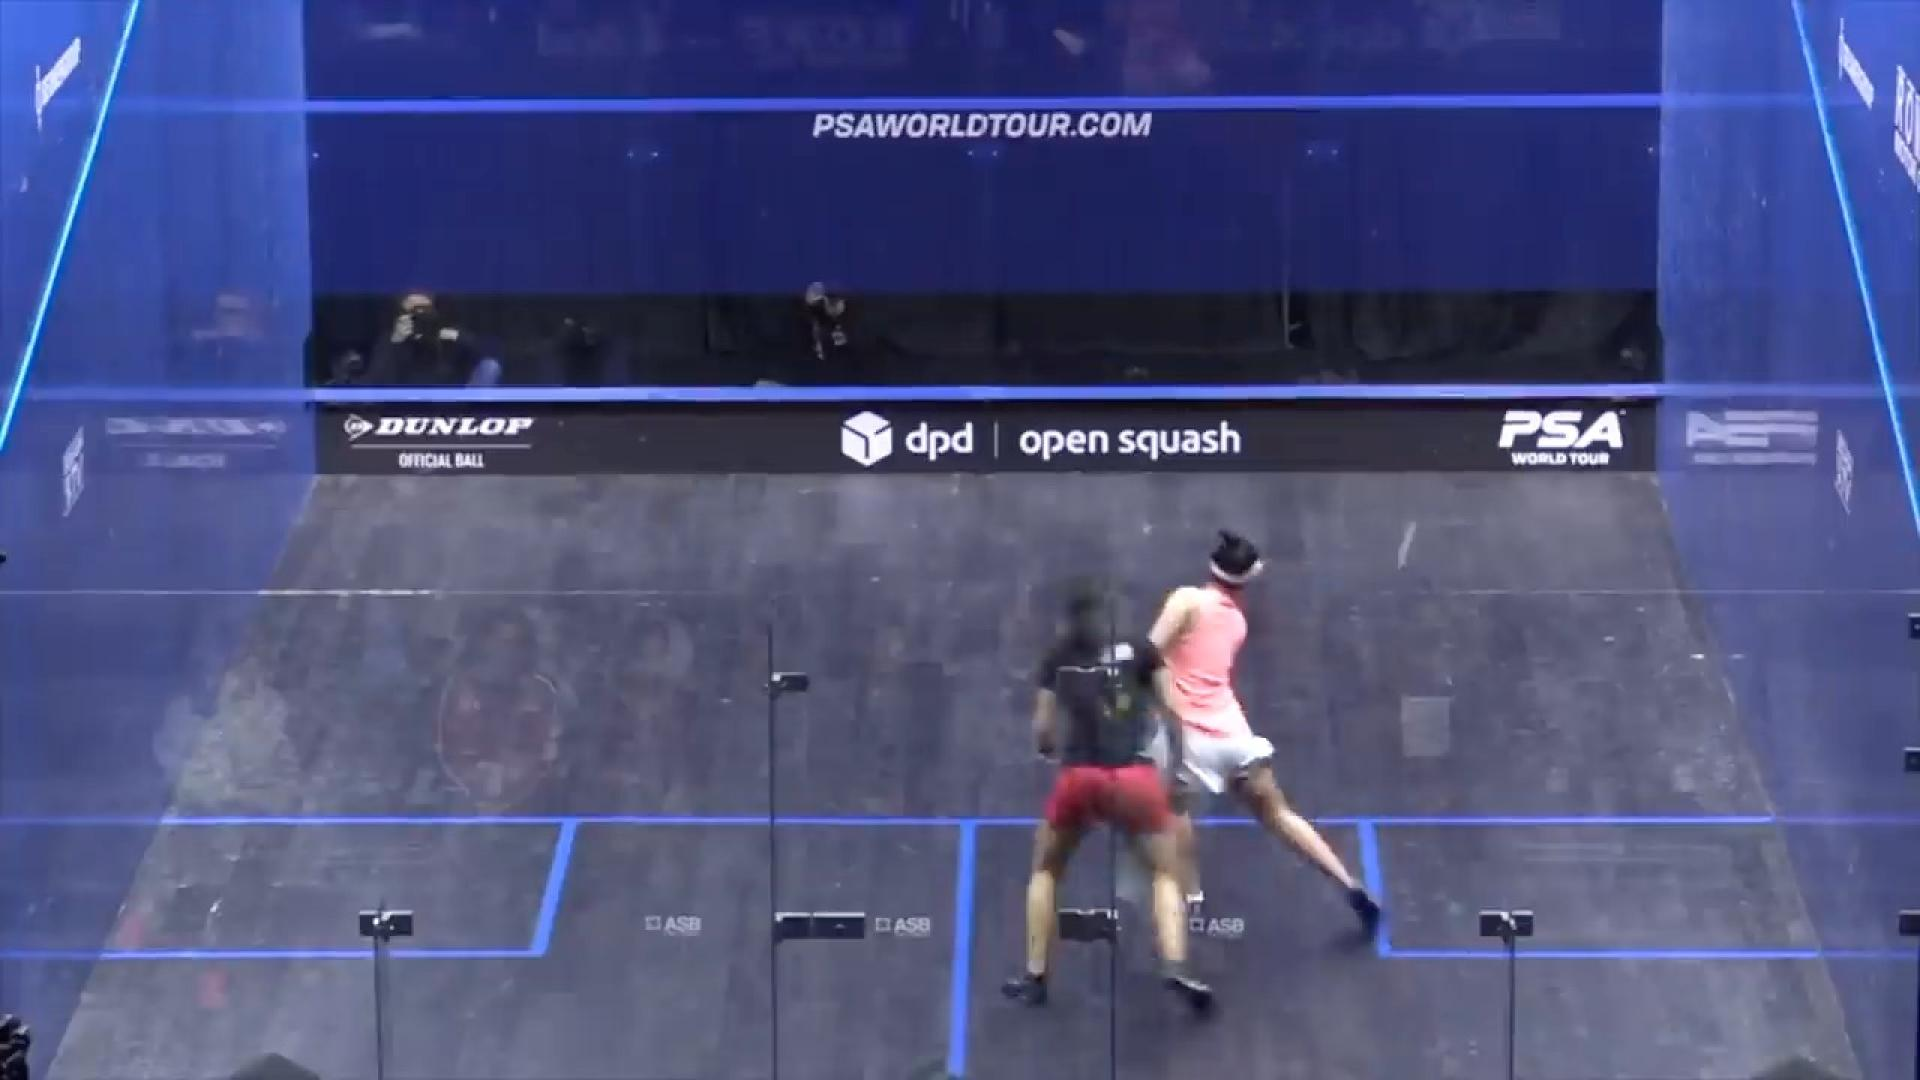Squash-Ball: (1375, 513, 1429, 578)
